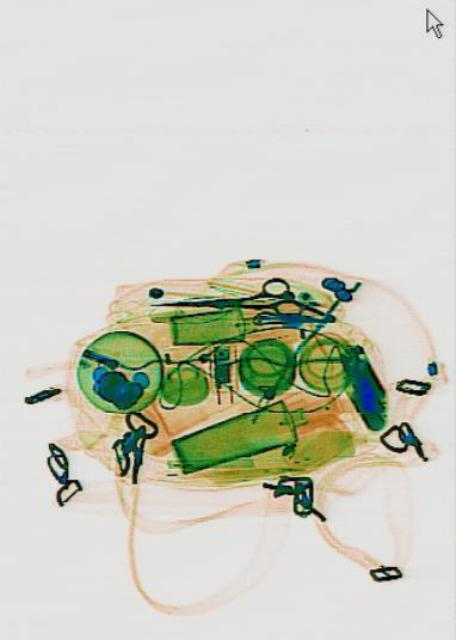Scissors: (149, 274, 301, 324)
